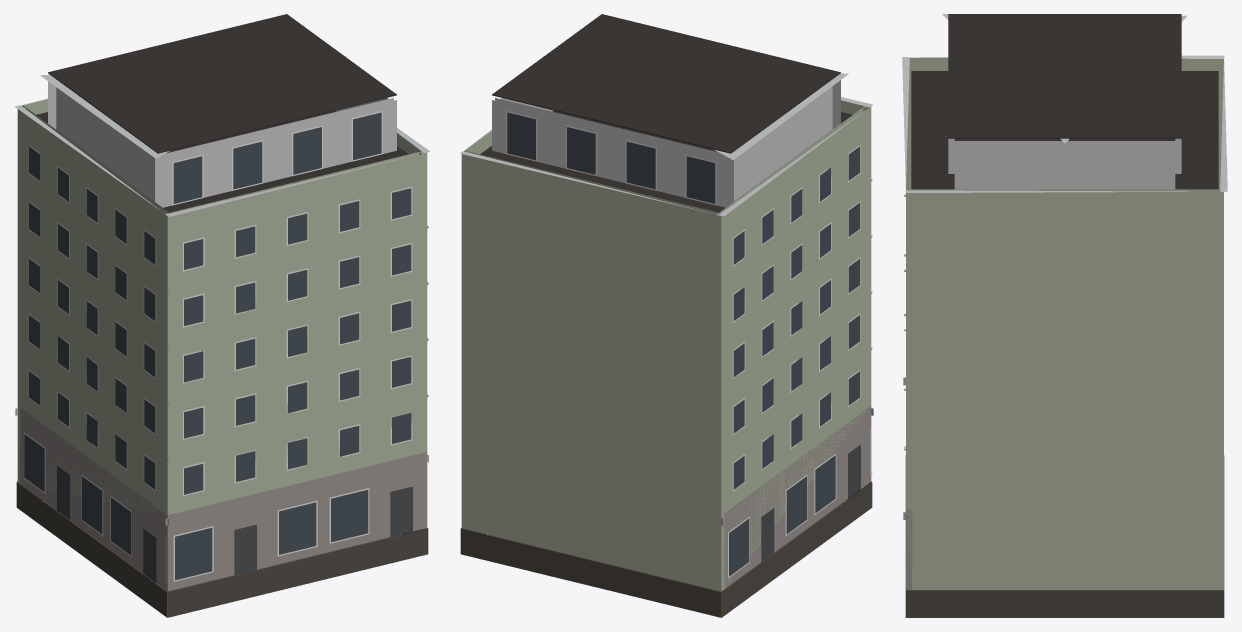
Rendered from block-corner-6-lod1.glb.
3 views of the same model, side by side, from view 1: azimuth 30°, elevation 25°; view 2: azimuth 150°, elevation 25°; view 3: azimuth 270°, elevation 25° (orthographic). The views are drawn at different scales.
Visible parts, largest first — view 1: block-corner-6-plaster0; view 2: block-corner-6-plaster0; view 3: block-corner-6-plaster0.
Boxes of the visible parts, left/top/right/bottom form: block-corner-6-plaster0: left=14, top=14, right=430, bottom=617; block-corner-6-plaster0: left=460, top=14, right=873, bottom=617; block-corner-6-plaster0: left=902, top=14, right=1227, bottom=617.
Size of the model in its own units: 15.36 by 24.7 by 15.36.
